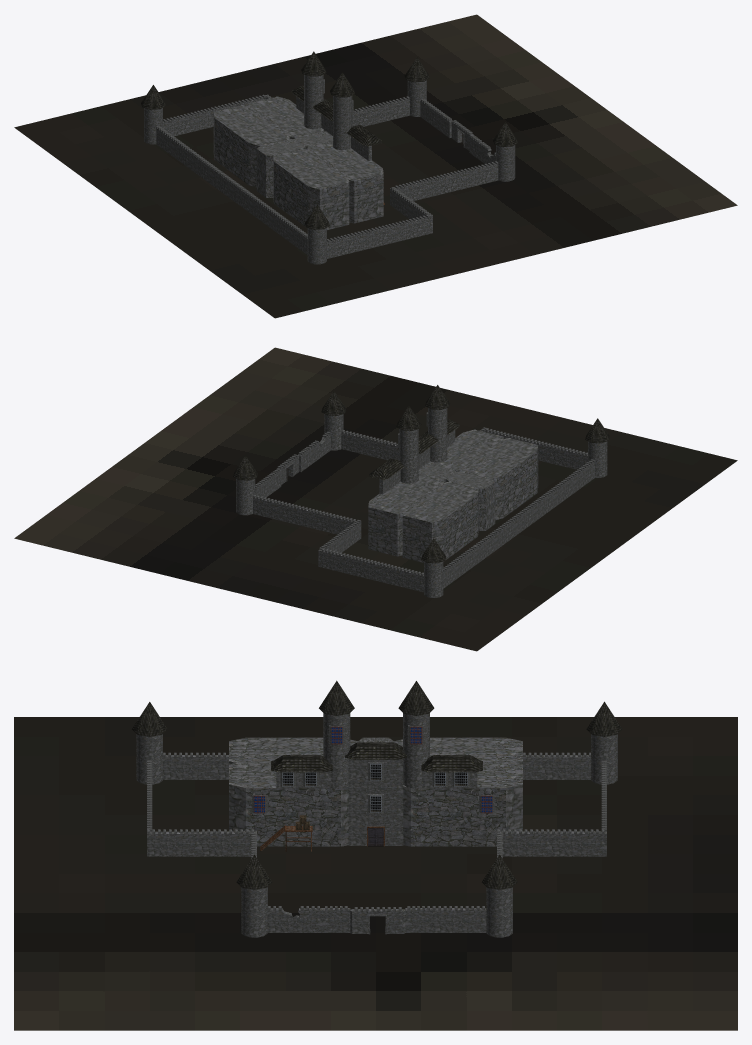
File: PSXDungeonLevelOne.fbx
3 renders of one model, top to bottom at view 1: azimuth 30°, elevation 25°; view 2: azimuth 150°, elevation 25°; view 3: azimuth 270°, elevation 25°, orthographic. The views are drawn at different scales.
Parts seen in each view (by area): view 1: Platform.003, Building_Shape_Beveled_rectangle.004, Building_Shape_Beveled_rectangle.005, Wall.006, Wall.001, Cylinder.007, Cylinder.006, Building_Shape_Beveled_rectangle.006, Cylinder.005, Cylinder.003, Cylinder.004, Cylinder.002 (+8 smaller); view 2: Platform.003, Building_Shape_Beveled_rectangle.005, Building_Shape_Beveled_rectangle.004, Wall.001, Wall.006, Cylinder.006, Cylinder.007, Building_Shape_Beveled_rectangle.006, Cylinder.004, Cylinder.002, Cylinder.005, Cylinder.003 (+8 smaller); view 3: Platform.003, Wall.001, Wall.006, Cylinder.006, Cylinder.007, Building_Shape_Beveled_rectangle.004, Cylinder.003, Building_Shape_Beveled_rectangle.005, Cylinder.002, Cylinder.004, Cylinder.005, Wall_2x4.015 (+18 smaller).
Part boxes in pixels (<box>): Platform.003: <box>14,14,737,318</box>; Building_Shape_Beveled_rectangle.004: <box>273,148,349,229</box>; Building_Shape_Beveled_rectangle.005: <box>213,105,289,187</box>; Wall.006: <box>307,141,383,223</box>; Wall.001: <box>248,96,324,138</box>; Cylinder.007: <box>330,72,354,150</box>; Cylinder.006: <box>301,51,326,129</box>; Building_Shape_Beveled_rectangle.006: <box>256,139,305,197</box>; Cylinder.005: <box>305,205,329,264</box>; Cylinder.003: <box>493,122,517,181</box>; Cylinder.004: <box>141,85,165,144</box>; Cylinder.002: <box>404,57,429,116</box>; Platform.003: <box>14,347,737,651</box>; Building_Shape_Beveled_rectangle.005: <box>402,481,478,562</box>; Building_Shape_Beveled_rectangle.004: <box>462,438,538,520</box>; Wall.001: <box>368,474,444,556</box>; Wall.006: <box>427,429,503,471</box>; Cylinder.006: <box>396,406,421,483</box>; Cylinder.007: <box>425,385,450,462</box>; Building_Shape_Beveled_rectangle.006: <box>446,472,495,530</box>; Cylinder.004: <box>421,538,446,597</box>; Cylinder.002: <box>233,455,257,515</box>; Cylinder.005: <box>585,418,609,477</box>; Cylinder.003: <box>321,391,346,450</box>; Platform.003: <box>14,717,737,1030</box>; Wall.001: <box>403,761,522,846</box>; Wall.006: <box>229,761,348,846</box>; Cylinder.006: <box>398,681,434,788</box>; Cylinder.007: <box>319,680,354,788</box>; Building_Shape_Beveled_rectangle.004: <box>229,737,358,764</box>; Cylinder.003: <box>236,854,272,937</box>; Building_Shape_Beveled_rectangle.005: <box>393,737,522,764</box>; Cylinder.002: <box>482,854,517,937</box>; Cylinder.004: <box>586,701,622,784</box>; Cylinder.005: <box>132,702,167,784</box>; Wall_2x4.015: <box>552,829,606,856</box>.
Size of the model in its own units: 221 by 53.3 by 216.
Materials: 6 (6 with a texture image).
